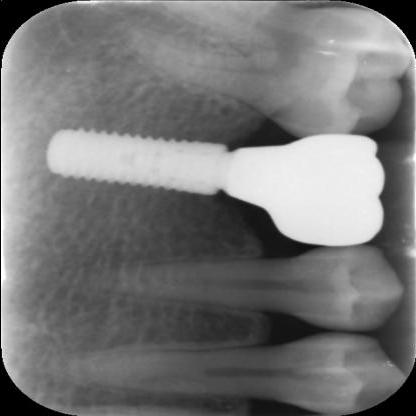ITI: (42, 124, 226, 199)
